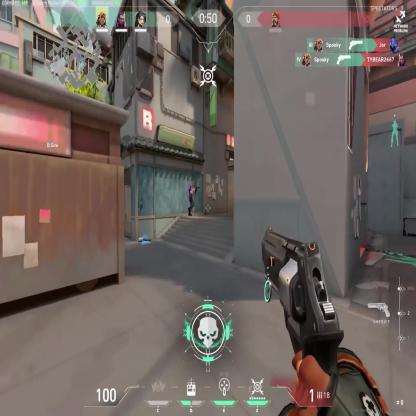enemy: (187, 181, 196, 217)
enemy_head: (191, 181, 194, 186)
